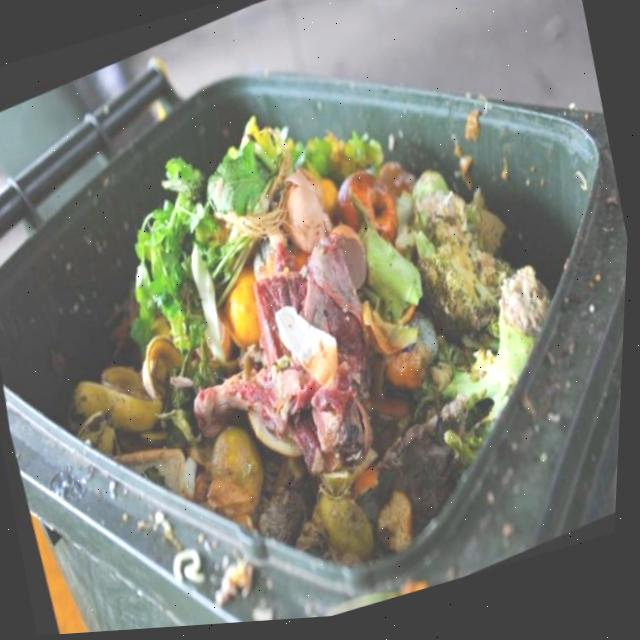Garbage: (71, 120, 551, 562)
